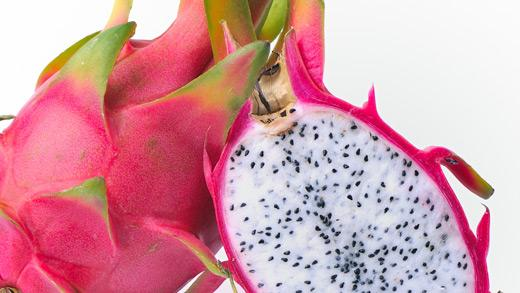dragon-fruit: (0, 14, 234, 293), (216, 96, 494, 293)
